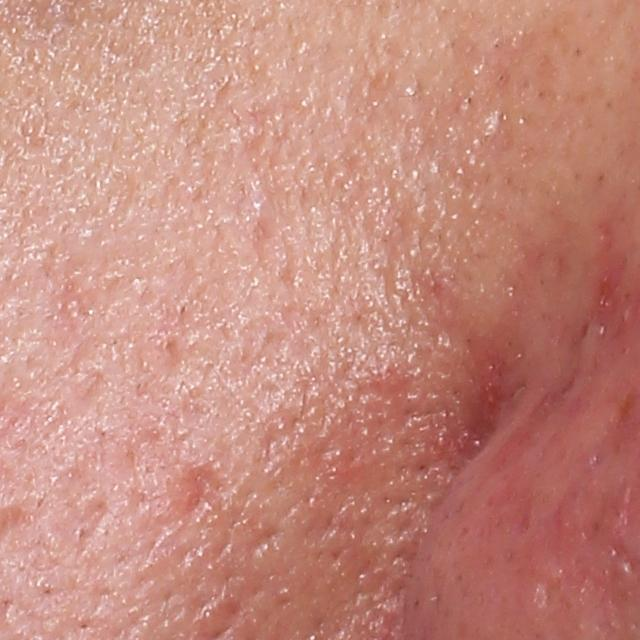atrophic_scar: (48, 495, 110, 550), (180, 462, 229, 523)
